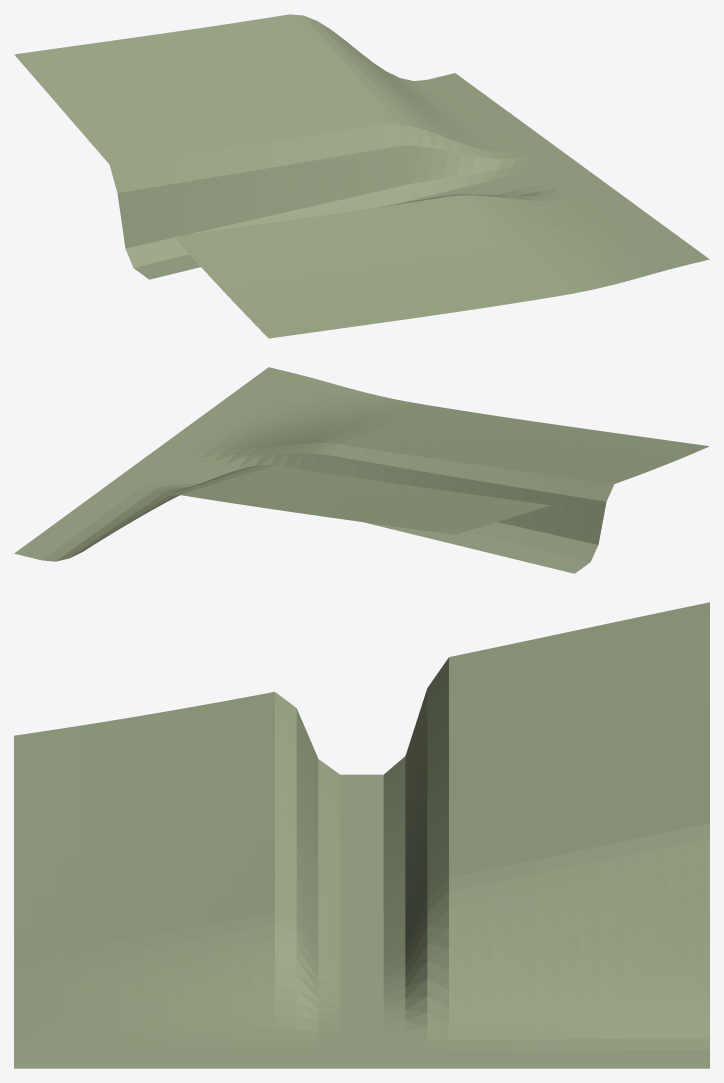
Rendered from valley-12-2.glb.
3 views of the same model, one above another, from view 1: azimuth 30°, elevation 25°; view 2: azimuth 150°, elevation 25°; view 3: azimuth 270°, elevation 25° (orthographic). The views are drawn at different scales.
Parts seen in each view (by area): view 1: valley-12-2; view 2: valley-12-2; view 3: valley-12-2.
Boxes of the visible parts, x1,y1,x2,y2 form: valley-12-2: (14,14,709,338); valley-12-2: (14,367,709,573); valley-12-2: (14,602,709,1068).
Bounding box in the file's own units: 256 × 70.97 × 256.
